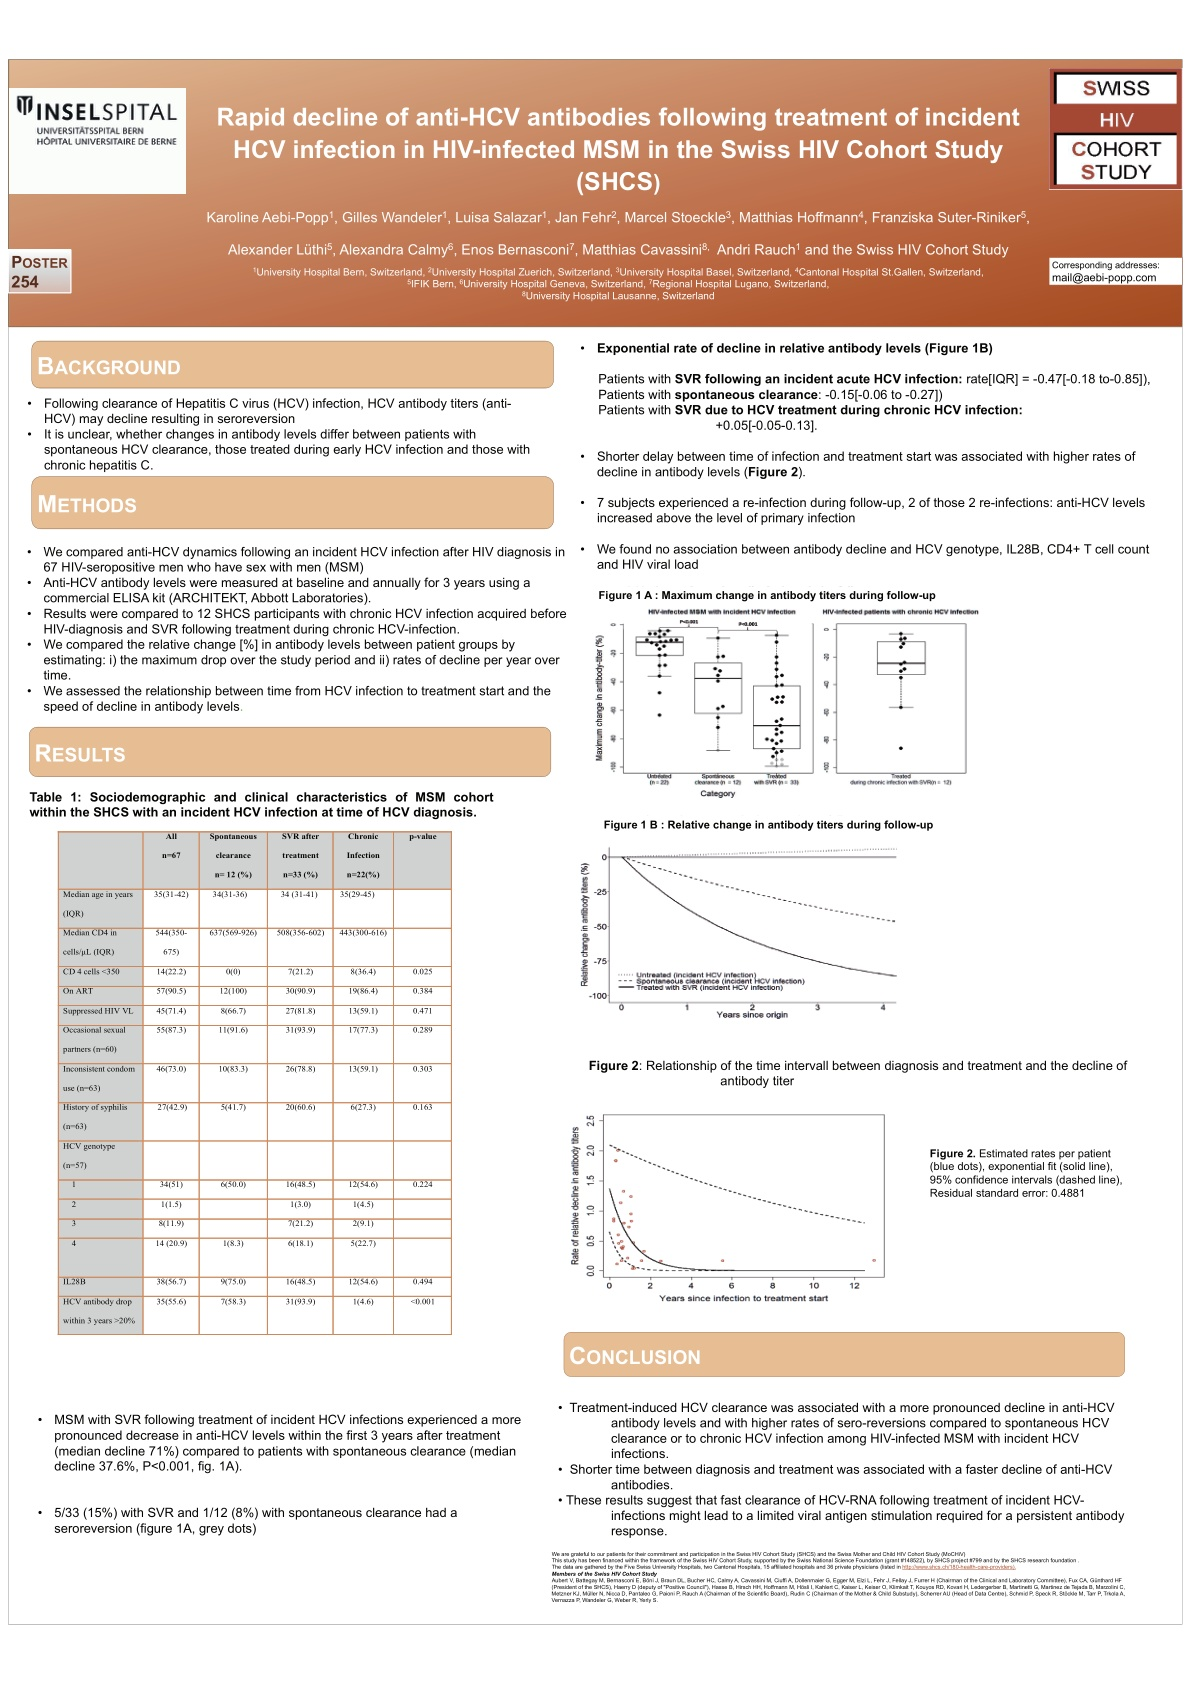full_lined: (57, 828, 452, 1335)
